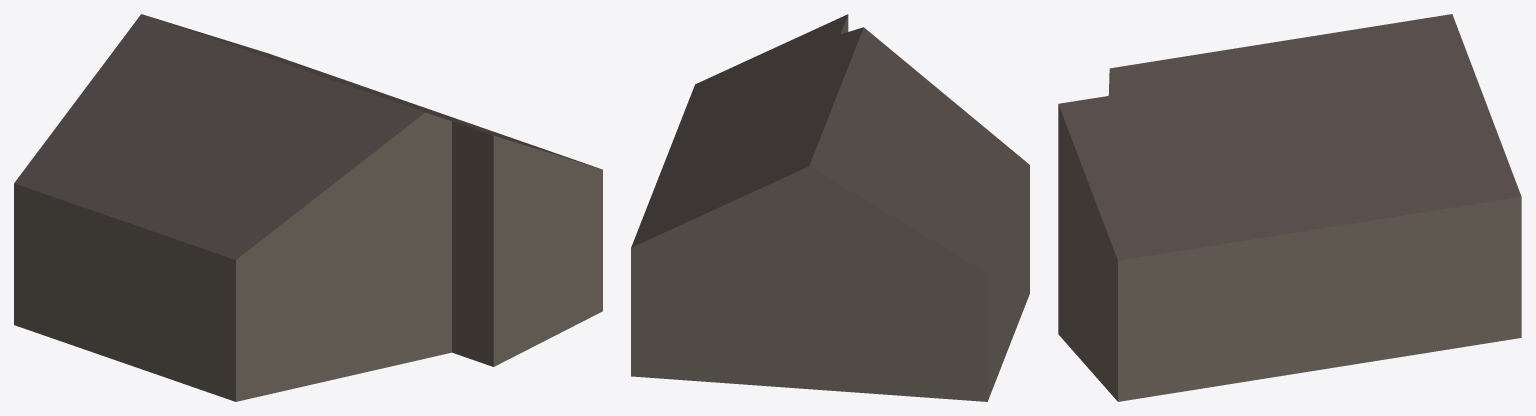
The picture shows the model from 3 angles, left to right: view 1: azimuth 30°, elevation 25°; view 2: azimuth 150°, elevation 25°; view 3: azimuth 270°, elevation 25°; orthographic projection. The views are drawn at different scales.
Visible parts, largest first — view 1: HP-w859467684; view 2: HP-w859467684; view 3: HP-w859467684.
Boxes of the visible parts, left/top/right/bottom form: HP-w859467684: left=14, top=14, right=602, bottom=401; HP-w859467684: left=631, top=14, right=1029, bottom=401; HP-w859467684: left=1058, top=14, right=1521, bottom=401.
Bounding box in the file's own units: 20.19 × 10.42 × 17.84.
